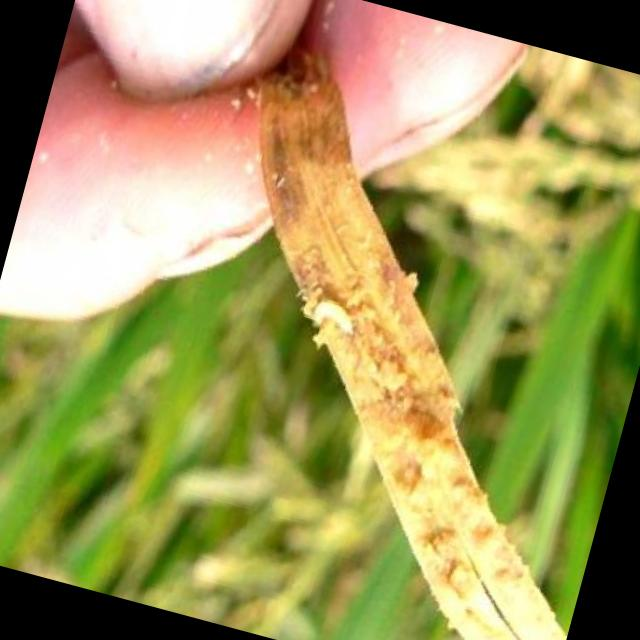whorl-maggot: (302, 288, 369, 358)
